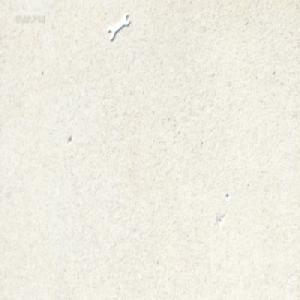Wrench: (107, 12, 129, 40)
